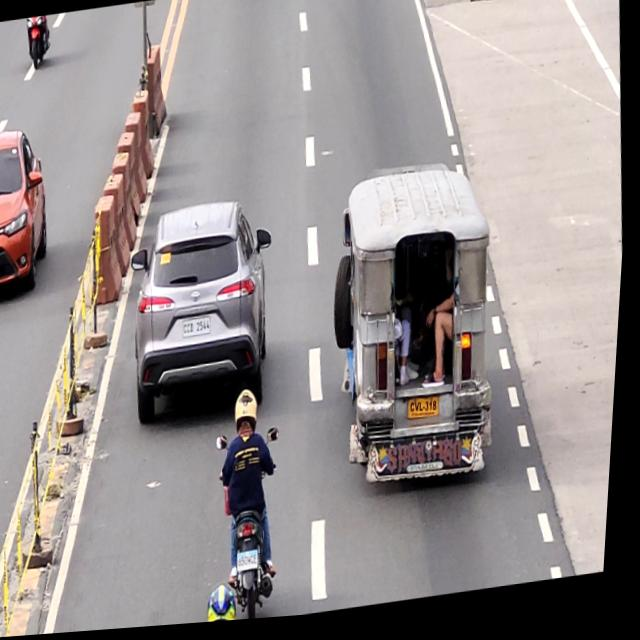Car: (122, 198, 287, 431)
Jeep: (322, 160, 515, 503)
License-Plate: (411, 403, 444, 428), (185, 320, 216, 342), (241, 553, 266, 576)
Motorcycle: (210, 428, 297, 626)
